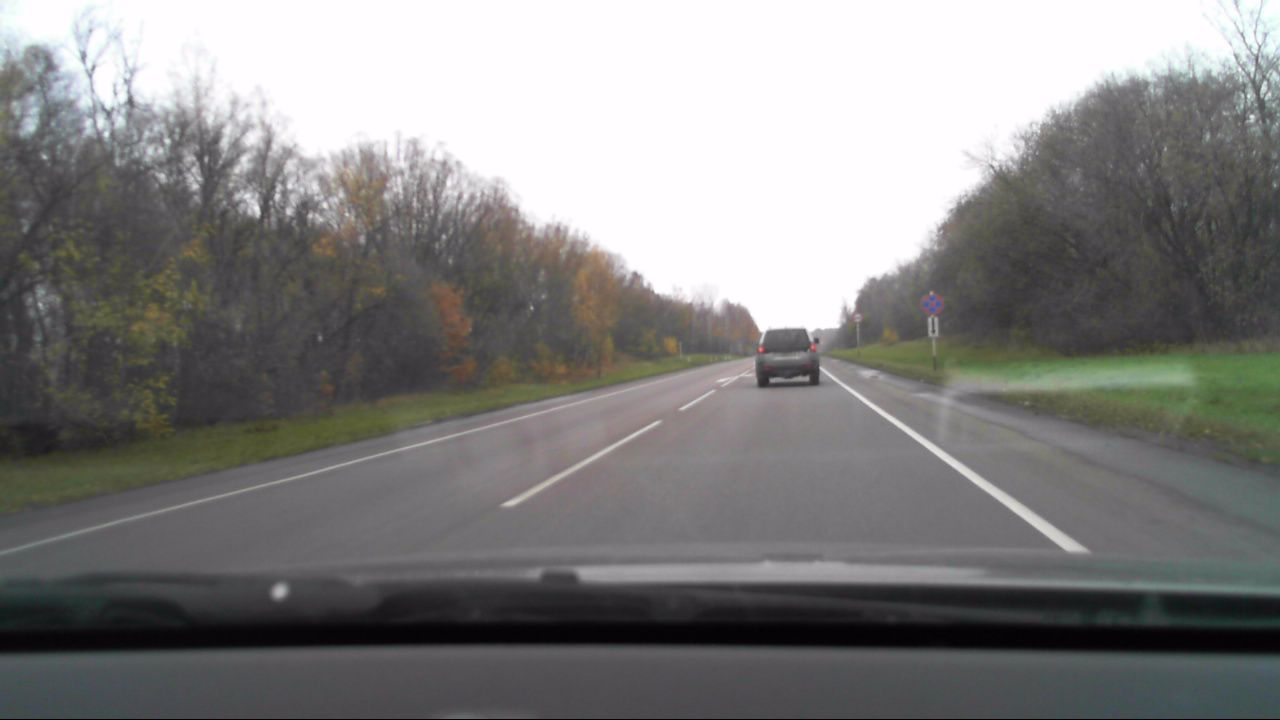No Parking: (918, 290, 946, 315)
